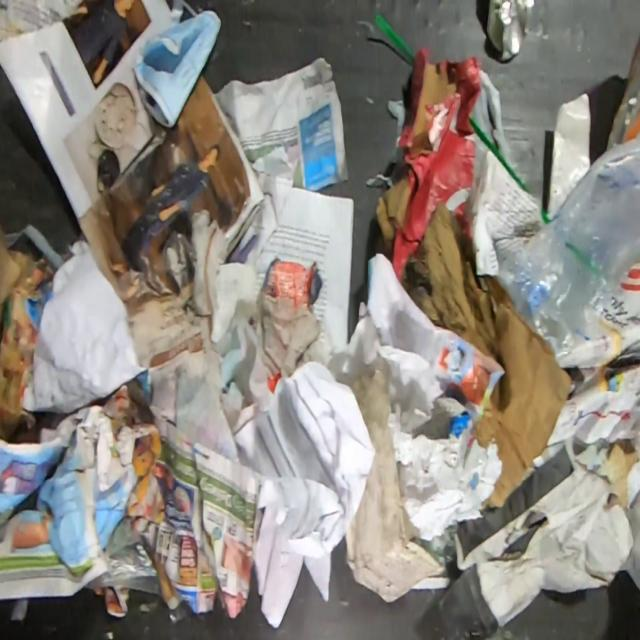cardboard: (400, 199, 571, 511), (130, 9, 221, 128)
metal: (485, 0, 535, 62)
soft_plastic: (493, 129, 640, 368), (85, 515, 161, 595), (605, 31, 640, 152)
